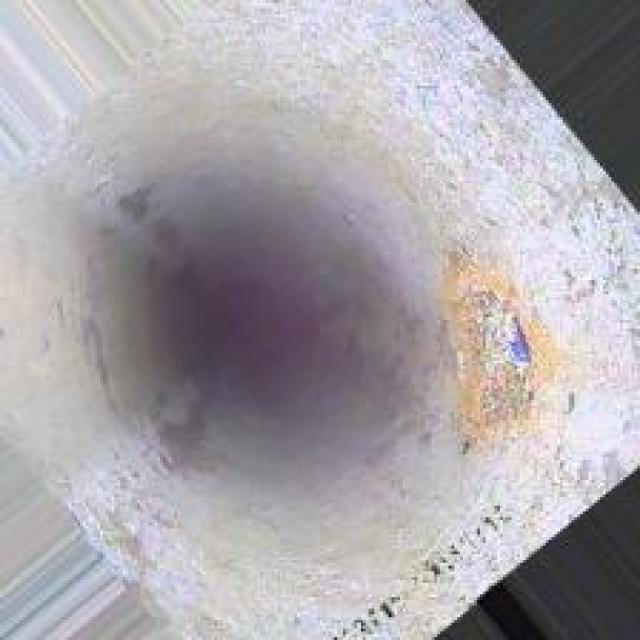ferrule: (434, 254, 540, 437)
